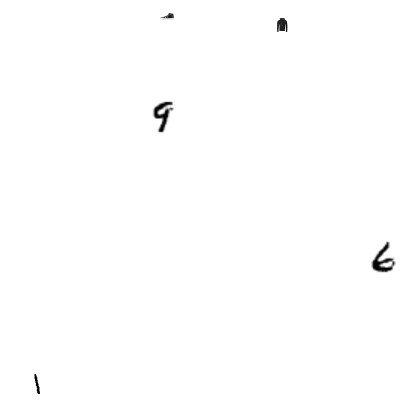1: (23, 370, 51, 398)
6: (361, 239, 403, 281)
9: (141, 93, 183, 135)
Pullover: (275, 18, 289, 32)
Sneaker: (160, 9, 174, 23)
